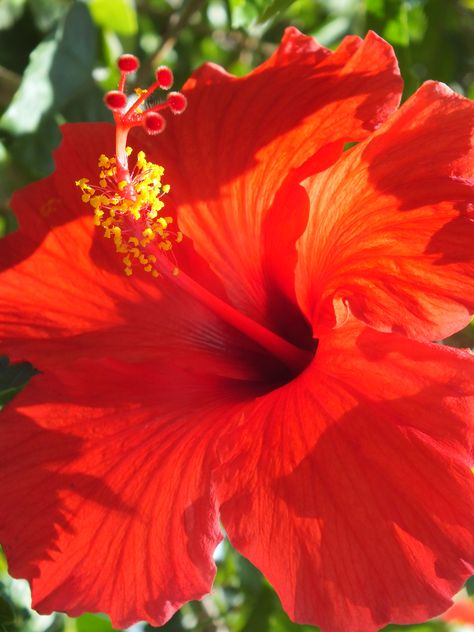Hibiscus: (1, 29, 468, 632)
